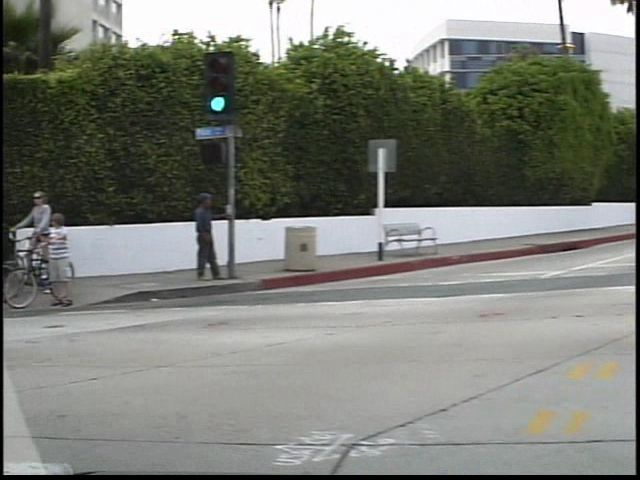person: (3, 180, 74, 313), (183, 186, 228, 289)
